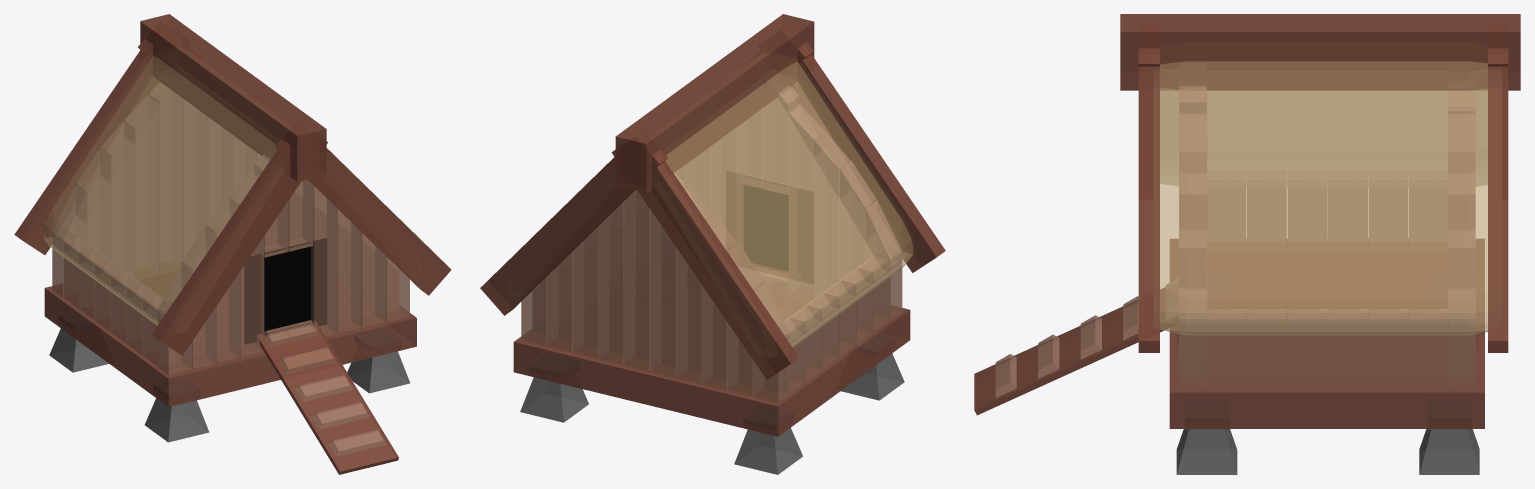
Rendered from FarmHenhouse.fbx.
3 renders of one model, left to right at view 1: azimuth 30°, elevation 25°; view 2: azimuth 150°, elevation 25°; view 3: azimuth 270°, elevation 25°, orthographic. The views are drawn at different scales.
Visible parts, largest first — view 1: FarmHenhouse; view 2: FarmHenhouse; view 3: FarmHenhouse.
Part boxes in pixels (x1,y1,x2,y2): FarmHenhouse: (14, 14, 451, 474); FarmHenhouse: (480, 14, 945, 474); FarmHenhouse: (974, 14, 1520, 474).
Size of the model in its own units: 137 by 133 by 174.
